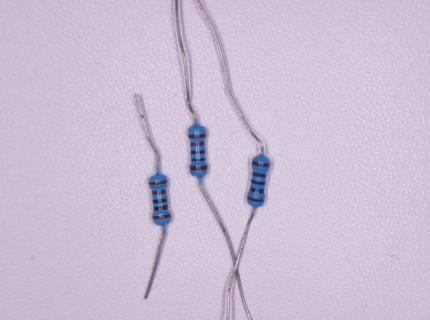Brown band: (252, 171, 267, 178), (152, 189, 166, 195)
